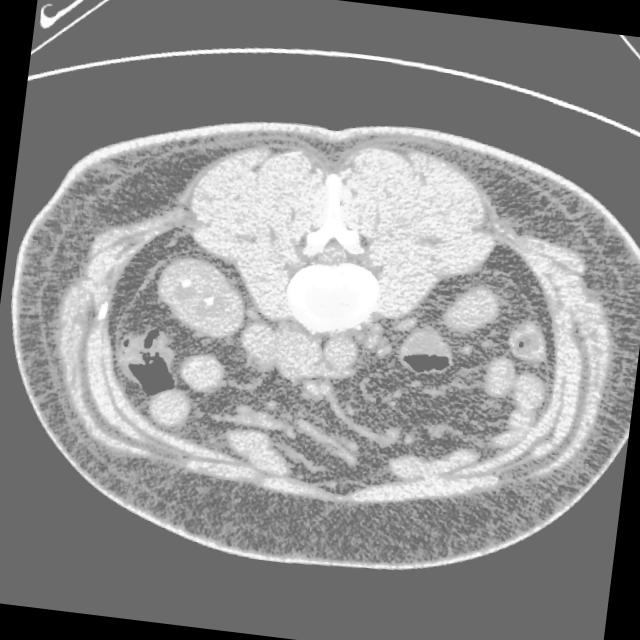STONE: (68, 238, 584, 473)
